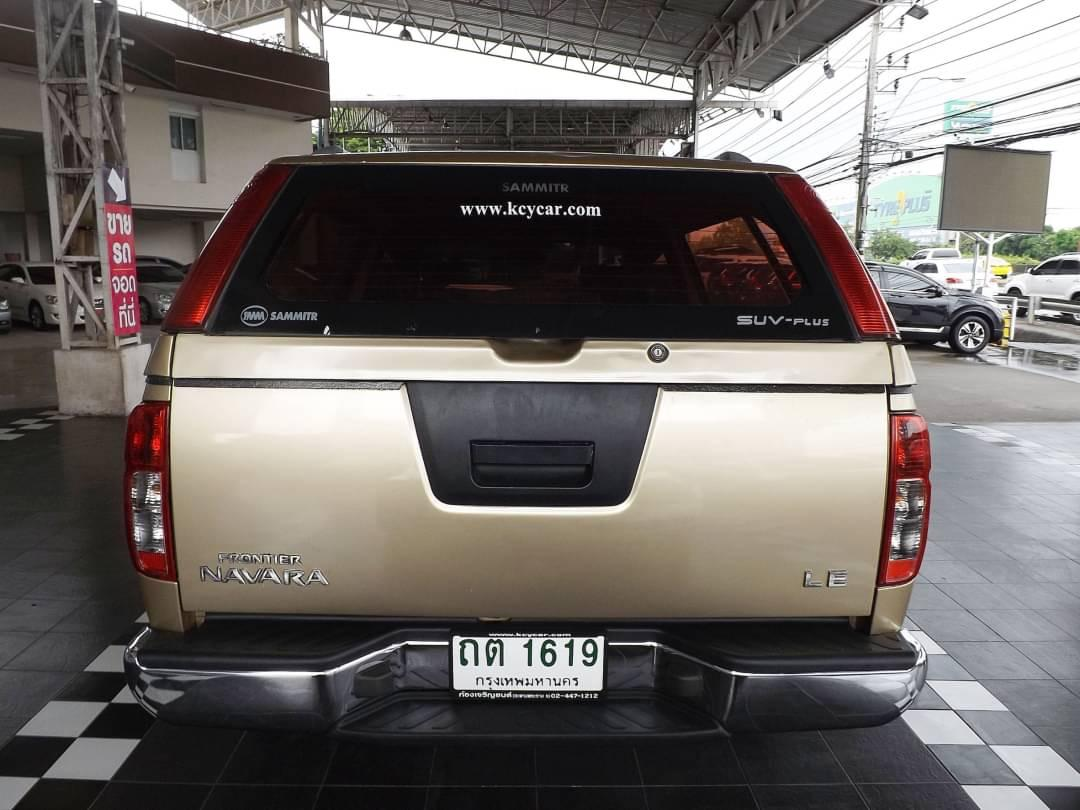license-plate: (450, 627, 606, 702)
